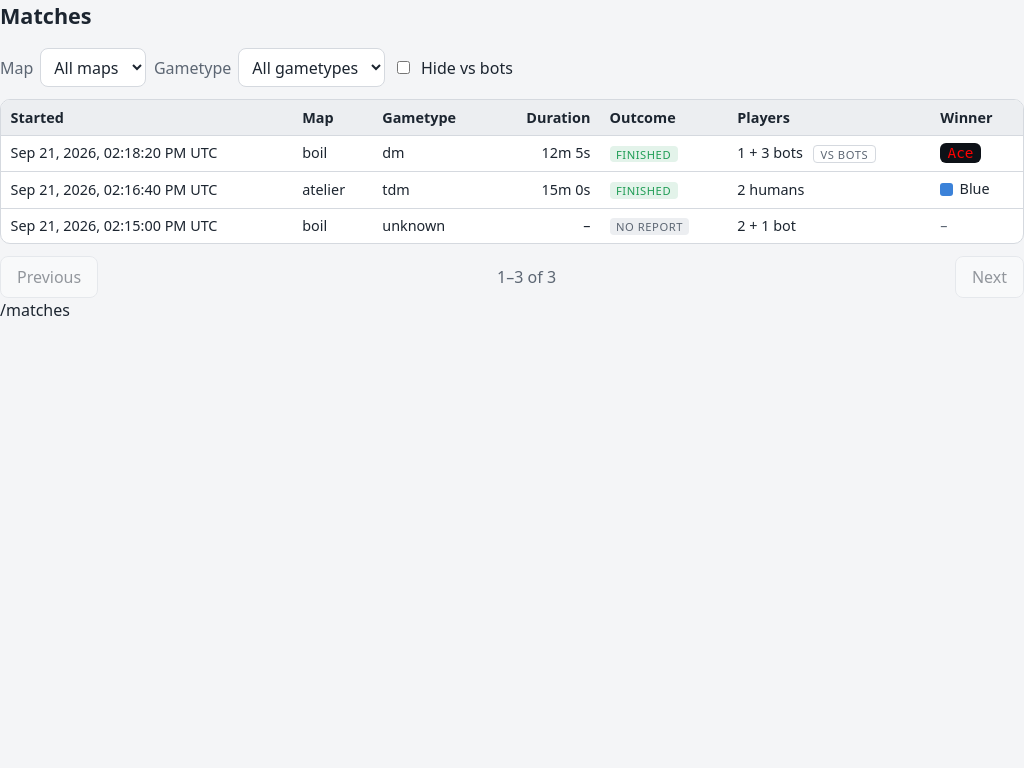
it: the match dialog (7.3) › opens from a click on a row with the summary and the final scoreboard
What coordinates should you click on to do the following:
click the text "boil"
I would click on:
 (512, 153)
Its box is 1,135 -> 1023,172.
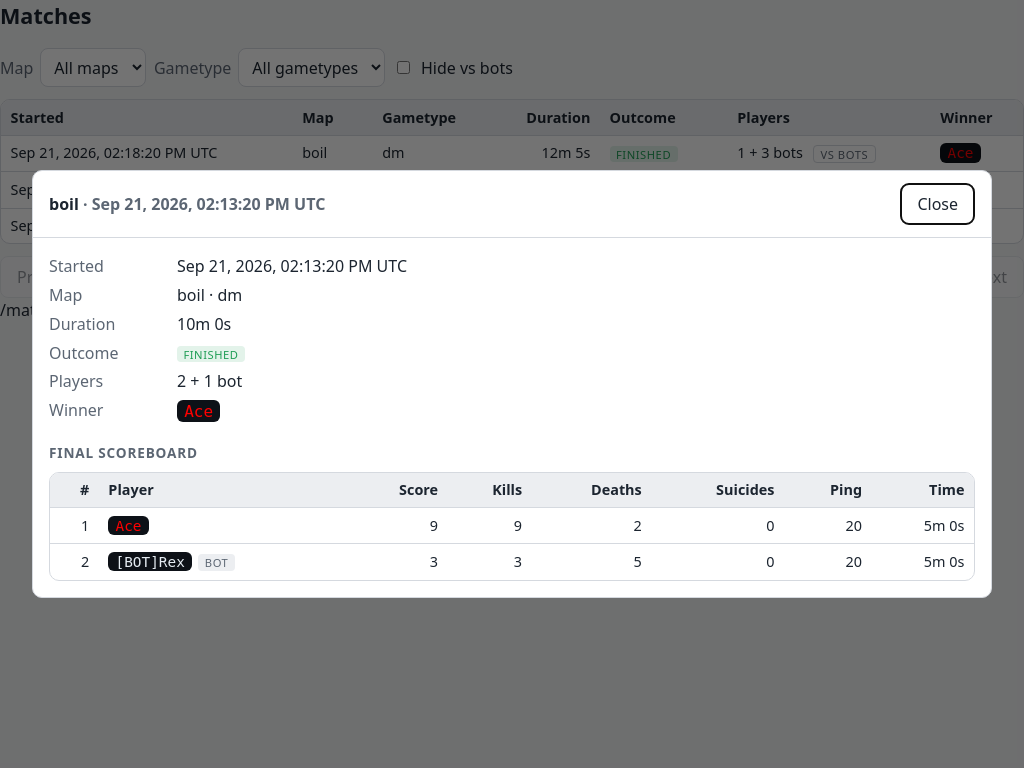
Check: the heading "Final scoreboard" is shown, box 49,443 -> 198,462
Check: the text "Winner" is shown, box 49,399 -> 103,421
